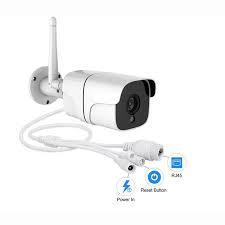tutu: (64, 69, 156, 131)
